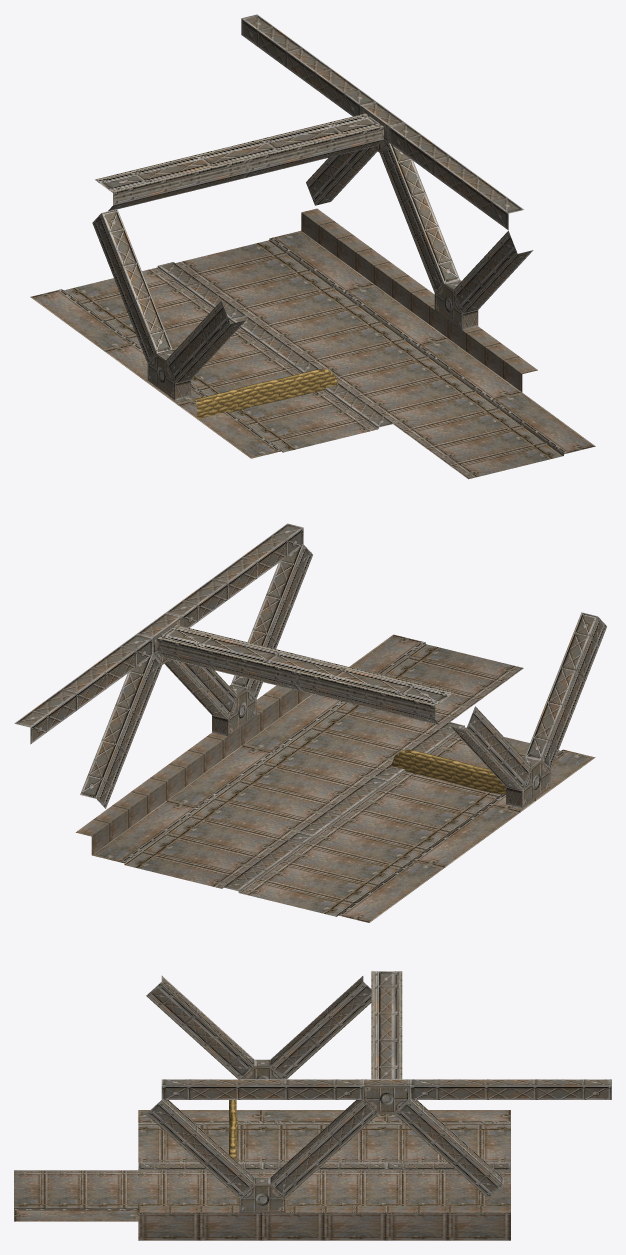
The model's file is MISSION8_LARGEBRIDGE.glb.
3 renders of one model, top to bottom at view 1: azimuth 30°, elevation 25°; view 2: azimuth 150°, elevation 25°; view 3: azimuth 270°, elevation 25°, orthographic. The views are drawn at different scales.
Visible parts, largest first — view 1: MISSION8_LARGEBRIDGE; view 2: MISSION8_LARGEBRIDGE; view 3: MISSION8_LARGEBRIDGE.
Boxes of the visible parts, bbox=[...] form: MISSION8_LARGEBRIDGE: bbox=[30, 14, 595, 479]; MISSION8_LARGEBRIDGE: bbox=[14, 523, 606, 922]; MISSION8_LARGEBRIDGE: bbox=[14, 971, 611, 1240].
Bounding box in the file's own units: 19 × 11 × 38.5.
5 materials, 5 textured.
